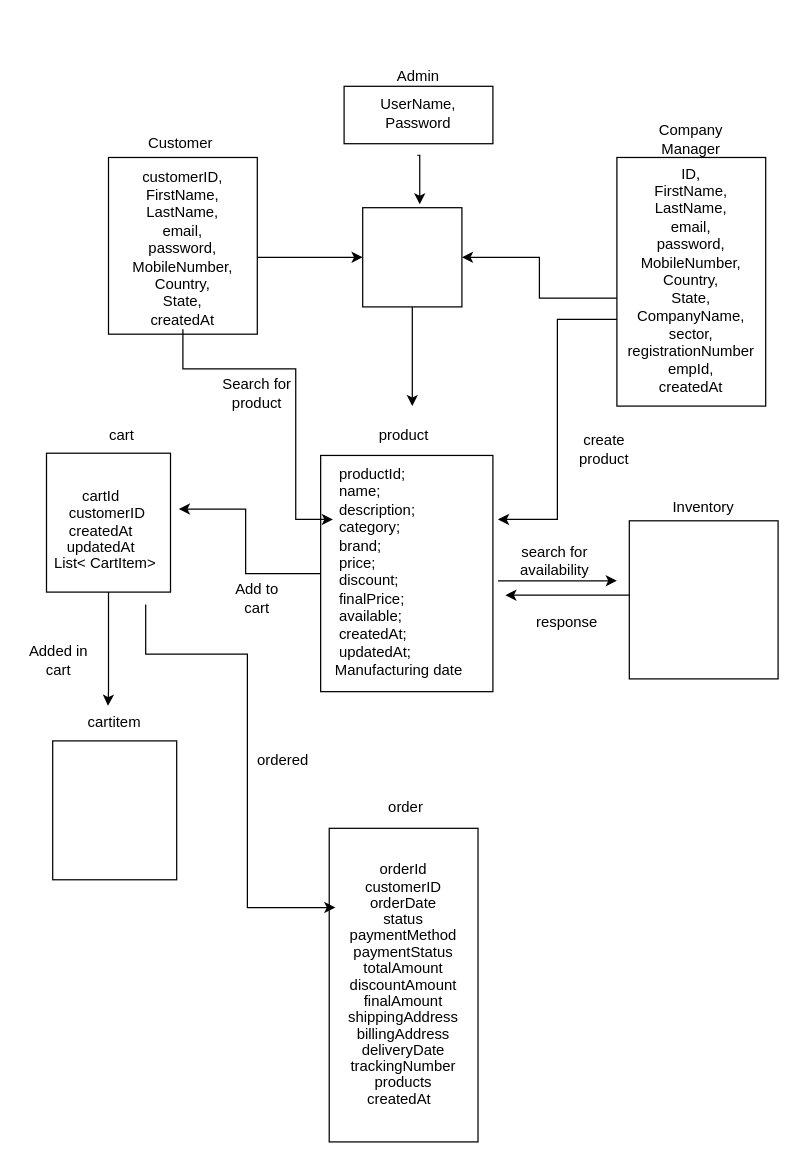
Image size: 805x1163. Some labels were removed from this diagram. The centre of each missing label's shape, as x and y in pixels:
cartItemId cartId productId productName quantity priceAtAddition total: point (114, 810)
Database storage: point (411, 256)
inventoryId productId companyId stockQuantity warehouseLocation lastRestockedAt: point (703, 599)
